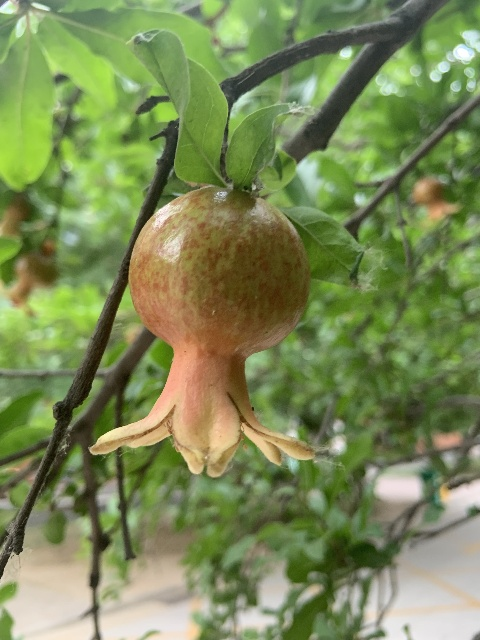early-fruit: (87, 186, 313, 480), (0, 253, 58, 318), (411, 177, 461, 224)
